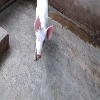heo: (30, 14, 54, 63)
